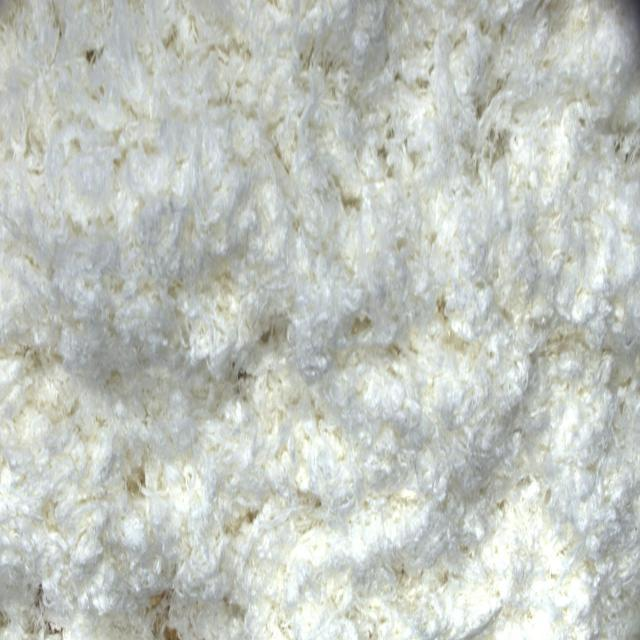dust: (148, 589, 183, 640)
